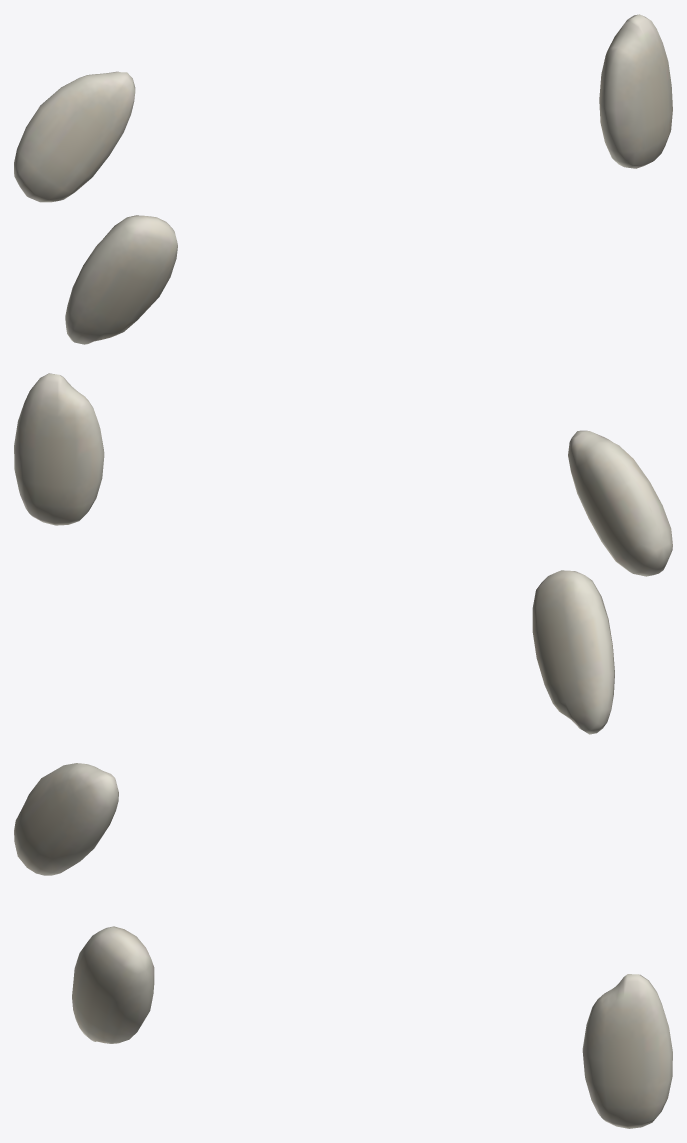
The model's file is AccessoryMouthRice.glb.
3 views of the same model, one above another, from view 1: azimuth 30°, elevation 25°; view 2: azimuth 150°, elevation 25°; view 3: azimuth 330°, elevation 25° (orthographic). The views are drawn at different scales.
Parts seen in each view (by area): view 1: Accessory__mAccessory; view 2: Accessory__mAccessory; view 3: Accessory__mAccessory.
Boxes of the visible parts, bbox=[...] form: Accessory__mAccessory: bbox=[14, 14, 672, 344]; Accessory__mAccessory: bbox=[14, 373, 672, 734]; Accessory__mAccessory: bbox=[14, 763, 672, 1128].
Bounding box in the file's own units: 2.69 × 1.11 × 0.2936.
1 material, 1 textured.
